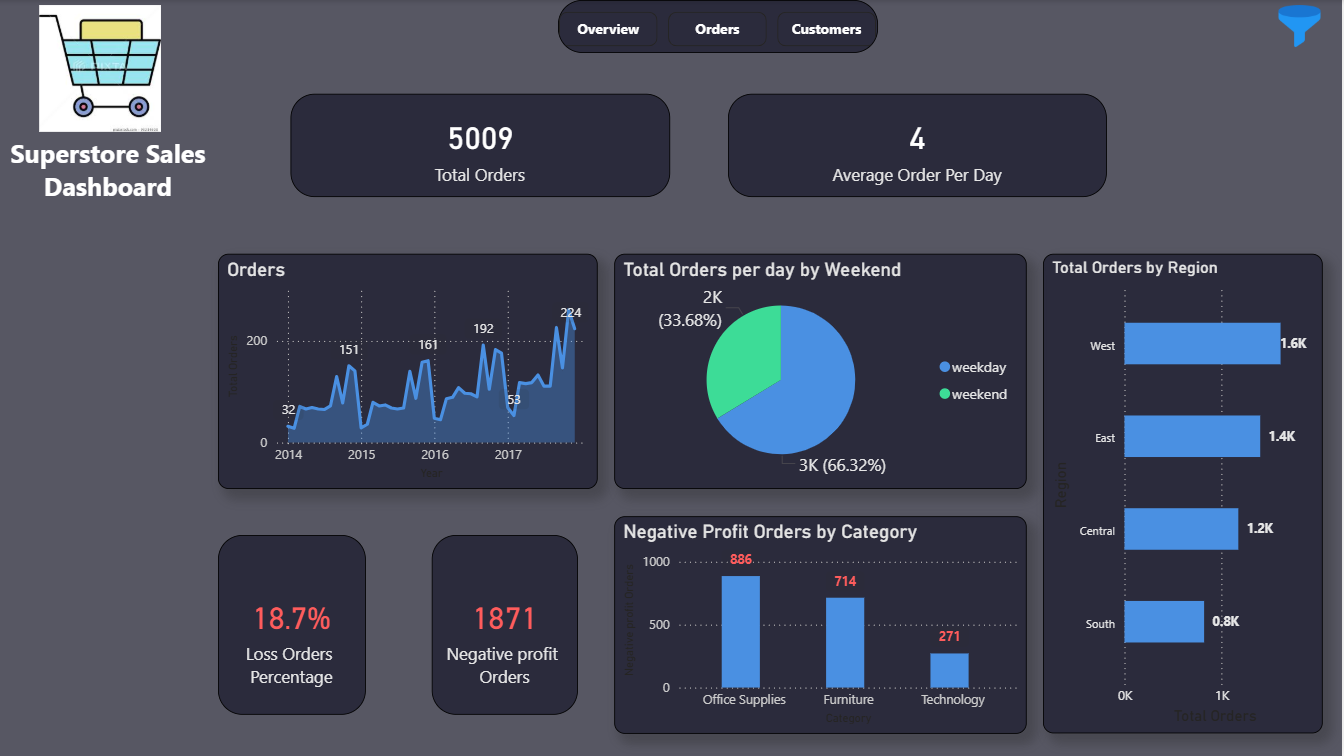

What the dashboard file says about the page in this screenshot:
{"tool":"powerbi","page":{"name":"Orders","canvas":[1280,720],"ordinal":1},"visuals":[{"type":"card","fields":{"Values":["Dax_Measures.Negative_profit_orders"]},"box":[413.1,509.5,139.3,171.4],"z":0},{"type":"card","fields":{"Values":["Dax_Measures.Total_Orders"]},"box":[279.1,89.7,361.5,98.3],"z":1000},{"type":"card","fields":{"Values":["Dax_Measures.Loss Orders Percentage"]},"box":[209.5,509.5,140.5,171.4],"z":2000},{"type":"lineChart","title":"Orders","fields":{"Y":["Dax_Measures.Total_Orders"],"Category":["Dim_Date.Date.Variation.Date Hierarchy.Year","Dim_Date.Date.Variation.Date Hierarchy.Month"]},"box":[209.5,241.7,361.9,223.8],"z":3000},{"type":"clusteredColumnChart","title":"Negative Profit Orders by Category","fields":{"Category":["Dim_Products.Category"],"Y":["Dax_Measures.Negative_profit_orders"]},"box":[586.9,491.7,392.9,207.1],"z":4000},{"type":"image","box":[0,0,194,131],"z":5000},{"type":"textbox","box":[0,119,209.5,86.9],"z":6000},{"type":"pageNavigator","box":[533.3,0,304.8,50],"z":7000},{"type":"clusteredBarChart","fields":{"Category":["Fact_Sales.Region"],"Y":["Dax_Measures.Total Orders"]},"box":[995.2,241.7,266.7,457.1],"z":8000},{"type":"card","fields":{"Values":["Dax_Measures.Average Order Per Day"]},"box":[695.5,89.7,361,98.3],"z":9000},{"type":"pieChart","title":"Total Orders per  day by Weekend","fields":{"Category":["Dim_Date.Weekend"],"Y":["Dax_Measures.Total Orders"]},"box":[586.9,241.7,392.9,223.8],"z":10000},{"type":"image","box":[1208.3,0,61.9,50],"z":12000}]}

Visuals, with their boxes in screenshot pixels (x1, y1, x2, y2), scaled from the page's 1280x720 canvas onto the 1344x756 screenshot:
card - Dax_Measures.Negative_profit_orders: Rect(434, 535, 580, 715)
card - Dax_Measures.Total_Orders: Rect(293, 94, 673, 197)
card - Dax_Measures.Loss Orders Percentage: Rect(220, 535, 368, 715)
"Orders" lineChart: Rect(220, 254, 600, 489)
"Negative Profit Orders by Category" clusteredColumnChart: Rect(616, 516, 1029, 734)
image: Rect(0, 0, 204, 138)
textbox: Rect(0, 125, 220, 216)
pageNavigator: Rect(560, 0, 880, 52)
clusteredBarChart - Fact_Sales.Region x Dax_Measures.Total Orders: Rect(1045, 254, 1325, 734)
card - Dax_Measures.Average Order Per Day: Rect(730, 94, 1109, 197)
"Total Orders per  day by Weekend" pieChart: Rect(616, 254, 1029, 489)
image: Rect(1269, 0, 1334, 52)
